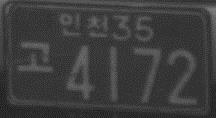1: (101, 46, 129, 102)
2: (166, 48, 198, 105)
3: (111, 14, 132, 41)
4: (66, 45, 95, 99)
5: (134, 16, 154, 41)
7: (133, 47, 161, 104)
고: (15, 41, 53, 72)
인천_O: (59, 11, 109, 39)
